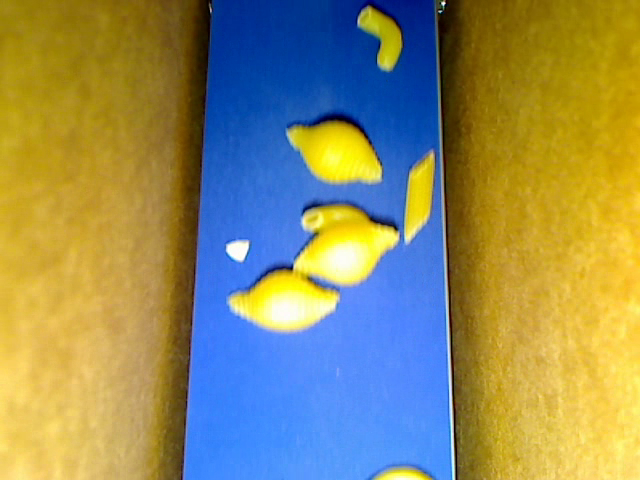elbow: (356, 4, 402, 72), (300, 201, 368, 232)
penne: (403, 148, 435, 245)
shell: (227, 268, 339, 333), (292, 221, 399, 287), (286, 121, 382, 184)
